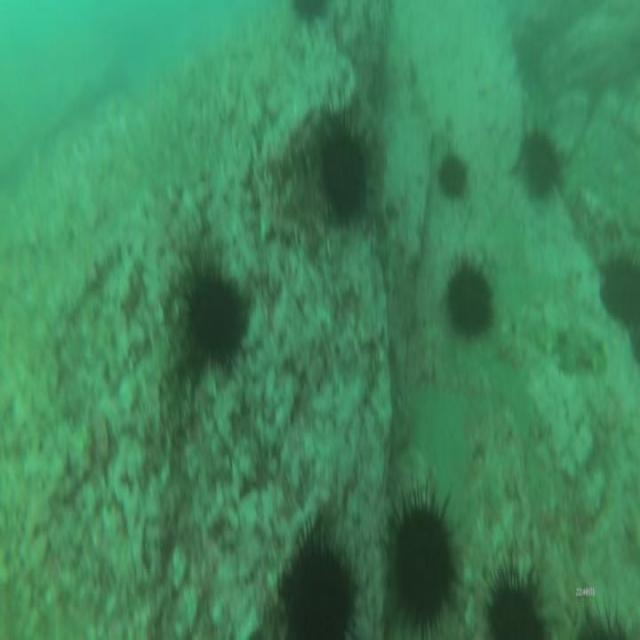echinus: (382, 477, 460, 640), (277, 518, 360, 640), (178, 247, 250, 379), (316, 109, 372, 229), (480, 550, 551, 640), (443, 256, 496, 341), (516, 127, 562, 210), (598, 254, 640, 330), (575, 591, 640, 640), (433, 147, 472, 207), (287, 0, 333, 30)
holothurian: (547, 322, 608, 378)
